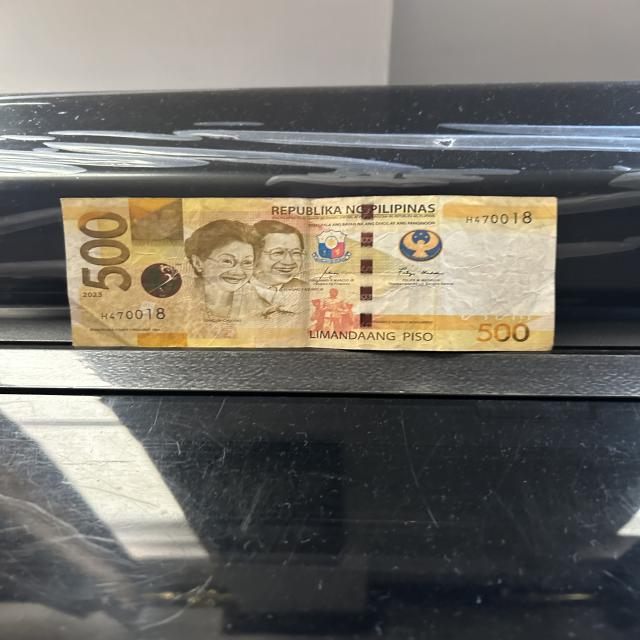concealed_value: (130, 200, 182, 243)
optically_variable_device: (143, 264, 186, 297)
watermark: (440, 219, 552, 323)
